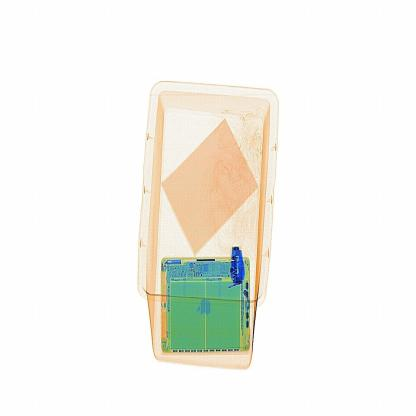scissors: (228, 240, 245, 287)
